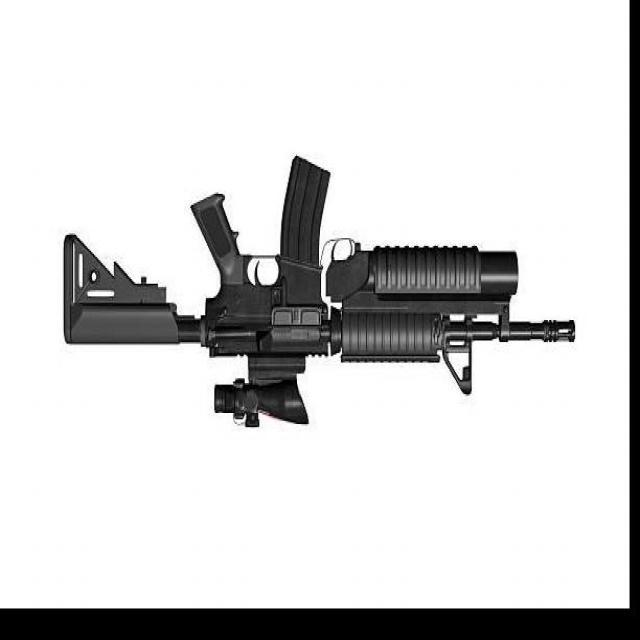weapon: (62, 154, 576, 431)
